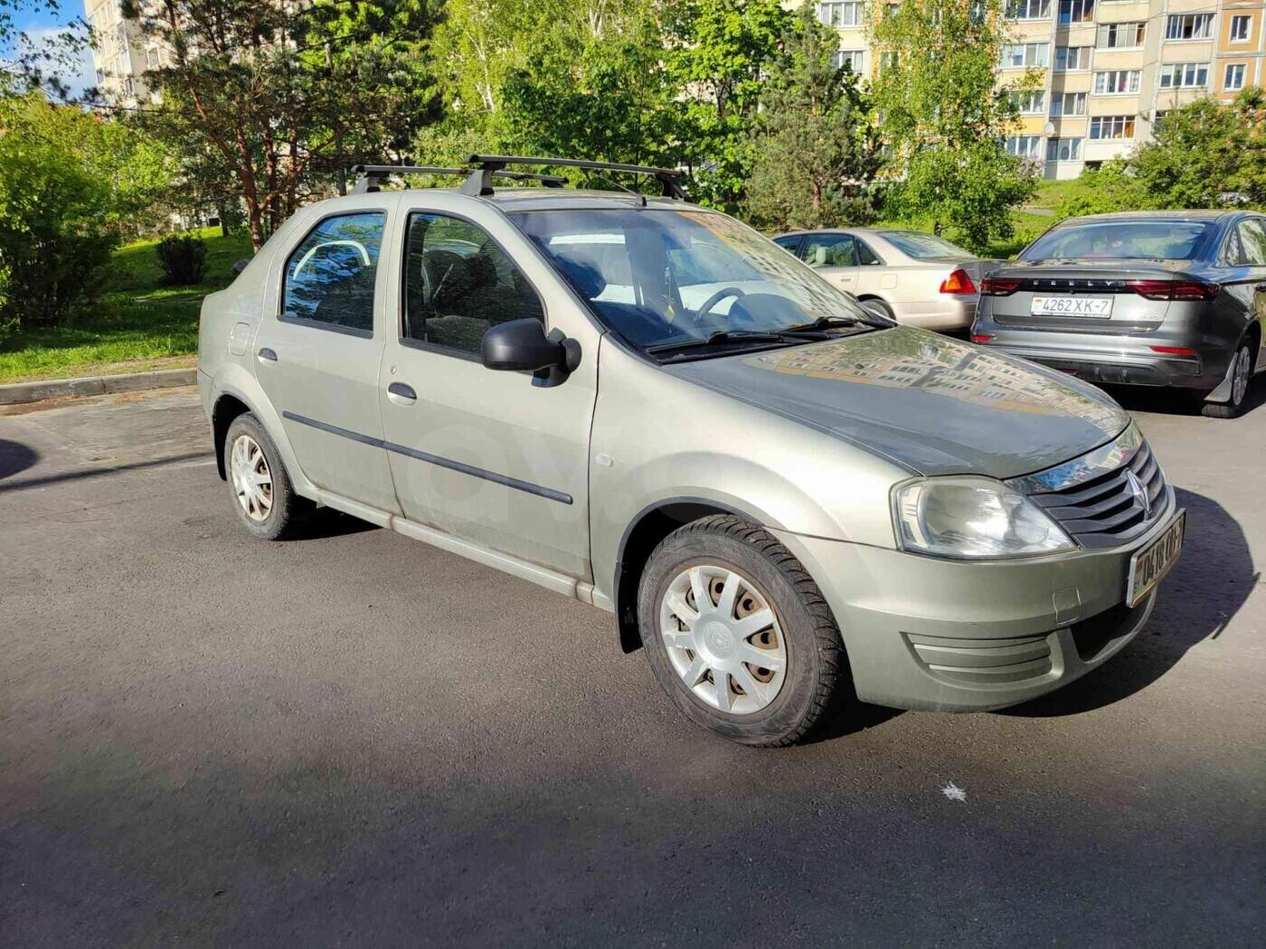Logan_2008-2015: (196, 172, 1182, 759)
